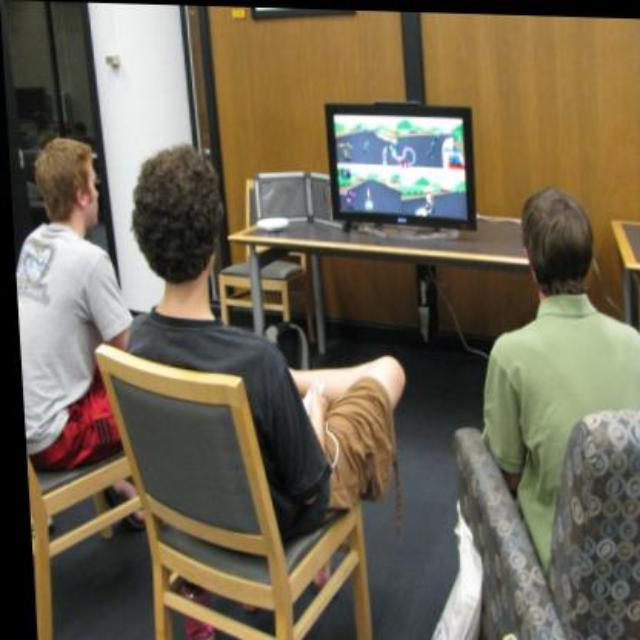Television: (323, 102, 480, 235)
